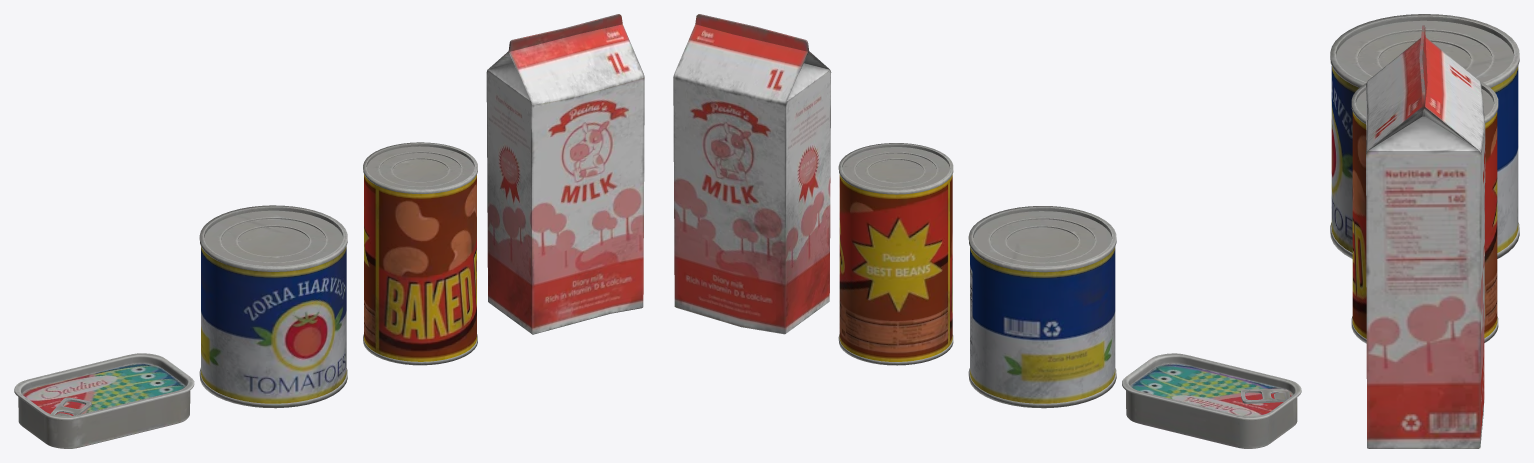
Rendered from long_life_food.glb.
The picture shows the model from 3 angles, left to right: view 1: azimuth 30°, elevation 25°; view 2: azimuth 150°, elevation 25°; view 3: azimuth 270°, elevation 25°; orthographic projection. The views are drawn at different scales.
Parts seen in each view (by area): view 1: long_life_food_milk; view 2: long_life_food_milk; view 3: long_life_food_milk.
Part boxes in pixels (bbox=[...]): long_life_food_milk: bbox=[14, 14, 644, 448]; long_life_food_milk: bbox=[673, 14, 1301, 448]; long_life_food_milk: bbox=[1330, 14, 1519, 448].
Size of the model in its own units: 0.5238 by 0.2375 by 0.1136.
Materials: 1 (1 with a texture image).
